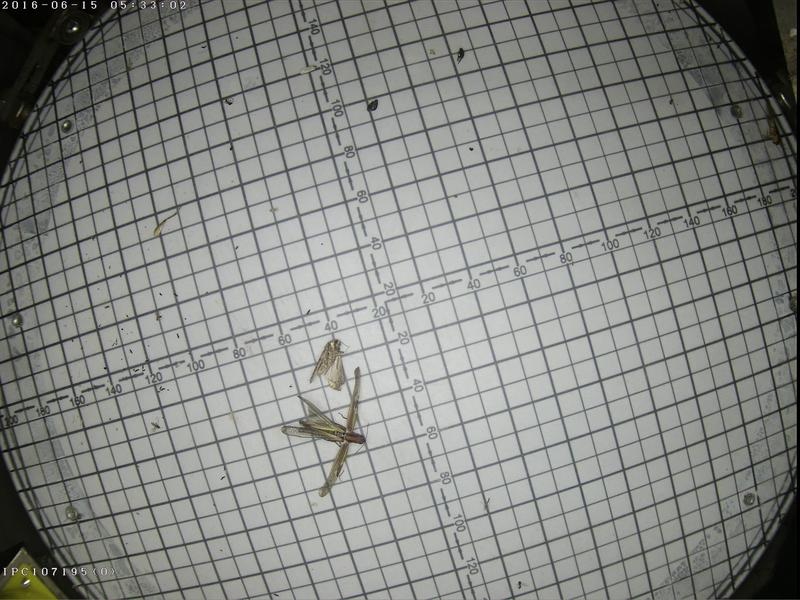Spodoptera litura: (307, 336, 348, 391)
